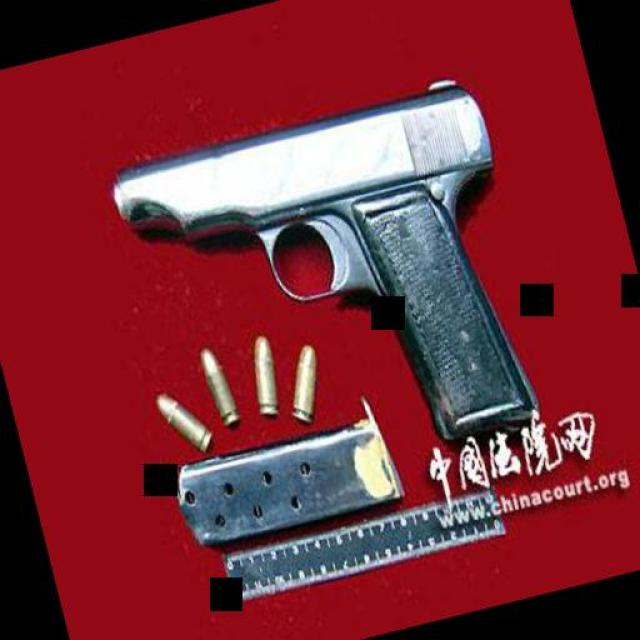gun: (99, 68, 560, 516)
